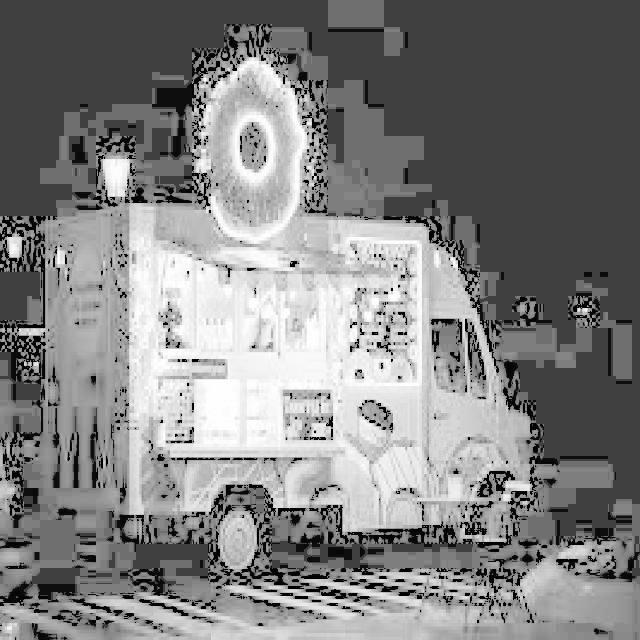Truck: (7, 200, 537, 583)
